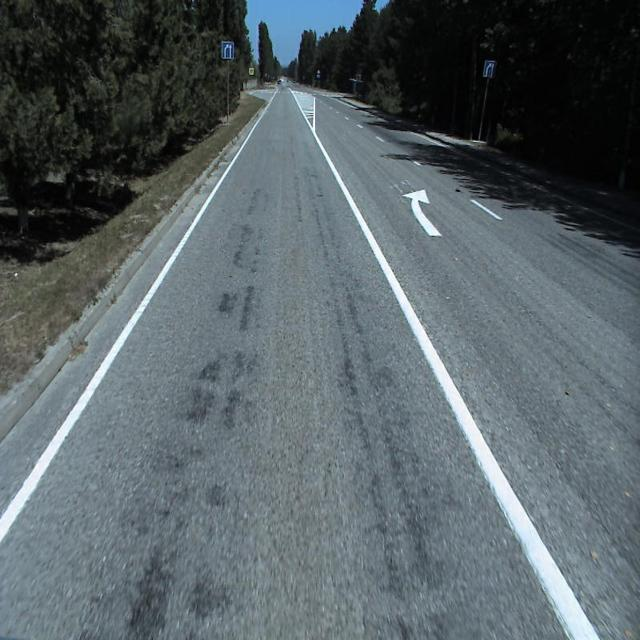road: (0, 82, 640, 639)
